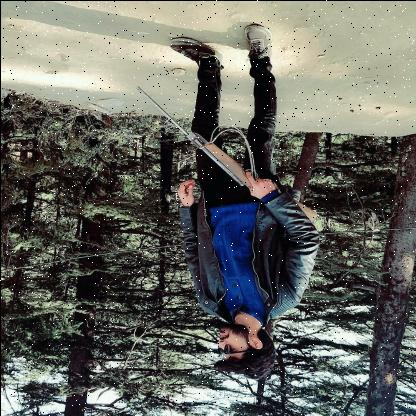rifle: (133, 84, 321, 223)
